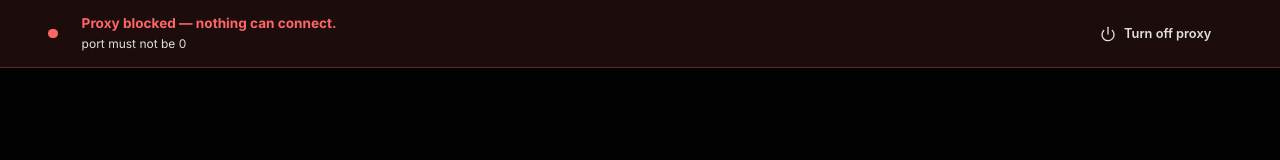
Test: shows why the proxy could not be turned off
Step 1. Click the button "Turn off proxy" → (1156, 34), box [1079,13,1232,54]
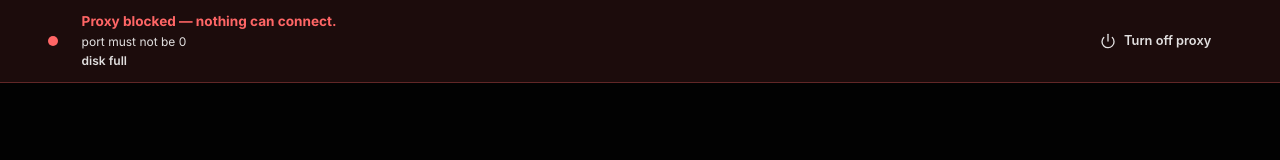
Expected: the text "disk full" is shown, [82,53,127,68]
